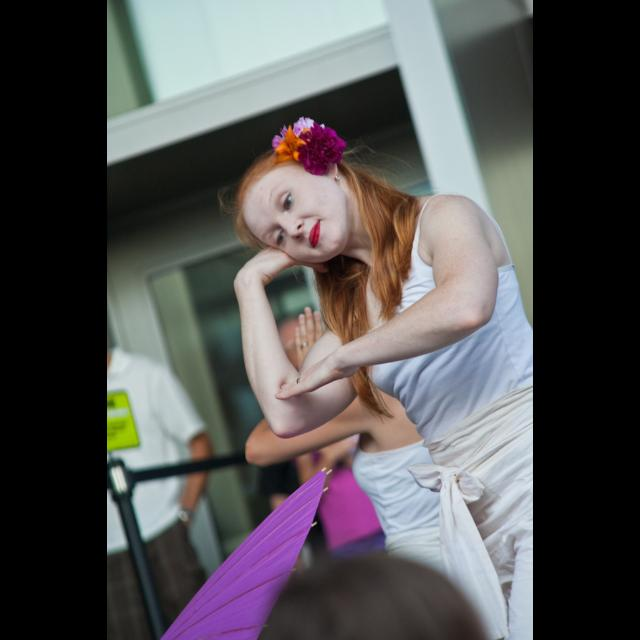Flower: (286, 118, 352, 168)
